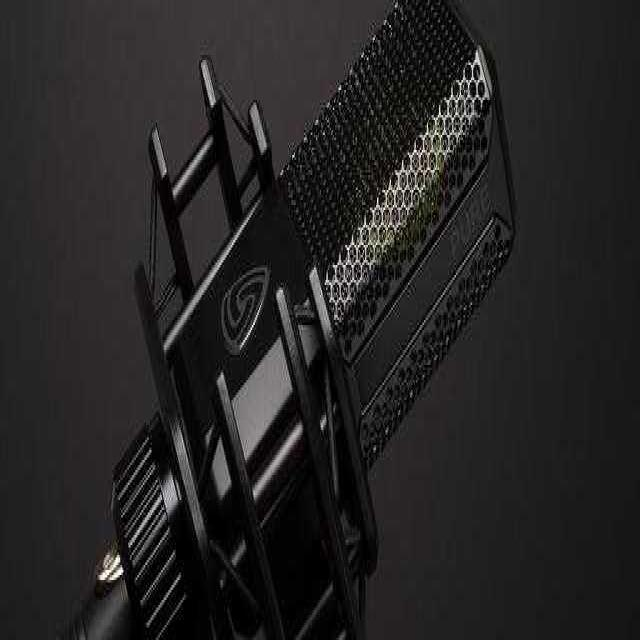microphone: (85, 0, 521, 633)
